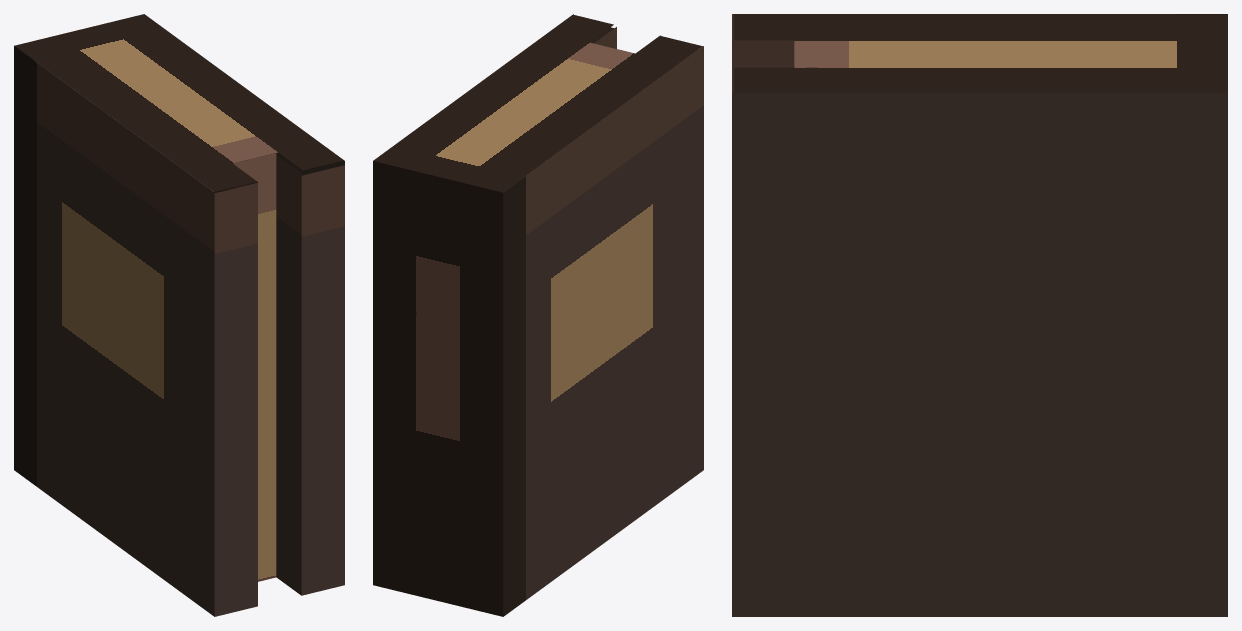
File: book_0x282_23.obj
3 views of the same model, side by side, from view 1: azimuth 30°, elevation 25°; view 2: azimuth 150°, elevation 25°; view 3: azimuth 270°, elevation 25° (orthographic). The views are drawn at different scales.
Parts seen in each view (by area): view 1: Cube.001; view 2: Cube.001; view 3: Cube.001.
Part boxes in pixels (x1,y1,x2,y2): Cube.001: (14, 14, 344, 616); Cube.001: (373, 14, 703, 616); Cube.001: (732, 14, 1227, 616).
Size of the model in its own units: 0.1875 by 0.5833 by 0.5.
